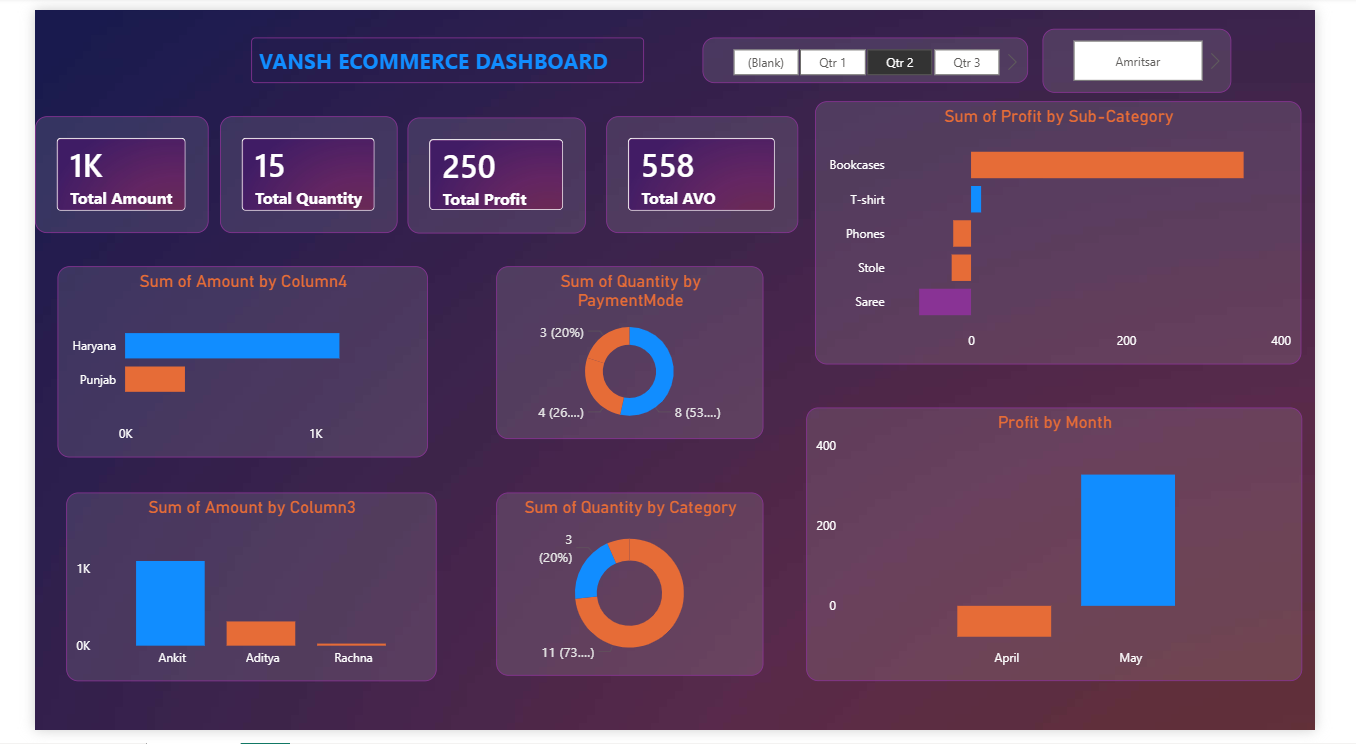

This screenshot's page, from the dashboard's own definition file:
{"tool":"powerbi","page":{"name":"Page 1","canvas":[1280,720],"ordinal":0},"visuals":[{"type":"columnChart","title":"Profit by Month","fields":{"Category":["Ordersr.Column2.Variation.Date Hierarchy.Month"],"Y":["Sum(Details.Profit)"]},"box":[770.9,396.9,495.8,273.9],"z":0},{"type":"textbox","box":[215.7,27.1,392.9,45.7],"z":1000},{"type":"barChart","fields":{"Category":["Details.Sub-Category"],"Y":["Sum(Details.Profit)"]},"box":[780.6,91.7,486.2,263],"z":2000},{"type":"donutChart","fields":{"Category":["Details.Category"],"Y":["Sum(Details.Quantity)"]},"box":[461.4,482.9,267.1,182.9],"z":3000},{"type":"donutChart","fields":{"Category":["Details.PaymentMode","Details.Category"],"Y":["Sum(Details.Quantity)"]},"box":[461.4,255.7,267.1,172.9],"z":4000},{"type":"cardVisual","fields":{"Data":["Sum(Details.Amount)"]},"box":[0,106.2,173.7,117],"z":5000},{"type":"cardVisual","fields":{"Data":["Sum(Details.Profit)"]},"box":[372.8,107.4,178.6,115.8],"z":6000},{"type":"cardVisual","fields":{"Data":["Sum(Details.Quantity)"]},"box":[184.6,106.2,177.3,117],"z":7000},{"type":"cardVisual","fields":{"Data":["Sum(Details.Averageorder)"]},"box":[571.9,106.2,191.8,117],"z":8000},{"type":"barChart","fields":{"Category":["Ordersr.Column4"],"Y":["Sum(Details.Amount)"]},"box":[22.9,255.7,370,191.4],"z":9000},{"type":"columnChart","fields":{"Category":["Ordersr.Column3"],"Y":["Sum(Details.Amount)"]},"box":[31.4,482.9,370,188.6],"z":10000},{"type":"slicer","fields":{"Values":["Ordersr.Column2.Variation.Date Hierarchy.Quarter"]},"box":[667.1,27.1,325.7,45.7],"z":11000},{"type":"slicer","fields":{"Values":["Ordersr.Column5"]},"box":[1007.1,18.6,188.6,64.3],"z":12000}]}

Visuals, with their boxes in screenshot pixels (x1, y1, x2, y2), scaled from the page's 1280x720 canvas onto the 1356x744 screenshot:
"Profit by Month" columnChart: {"x1": 817, "y1": 410, "x2": 1342, "y2": 693}
textbox: {"x1": 229, "y1": 28, "x2": 645, "y2": 75}
barChart - Details.Sub-Category x Sum(Details.Profit): {"x1": 827, "y1": 95, "x2": 1342, "y2": 367}
donutChart - Details.Category x Sum(Details.Quantity): {"x1": 489, "y1": 499, "x2": 772, "y2": 688}
donutChart - Details.PaymentMode x Details.Category: {"x1": 489, "y1": 264, "x2": 772, "y2": 443}
cardVisual - Sum(Details.Amount): {"x1": 0, "y1": 110, "x2": 184, "y2": 231}
cardVisual - Sum(Details.Profit): {"x1": 395, "y1": 111, "x2": 584, "y2": 231}
cardVisual - Sum(Details.Quantity): {"x1": 196, "y1": 110, "x2": 383, "y2": 231}
cardVisual - Sum(Details.Averageorder): {"x1": 606, "y1": 110, "x2": 809, "y2": 231}
barChart - Ordersr.Column4 x Sum(Details.Amount): {"x1": 24, "y1": 264, "x2": 416, "y2": 462}
columnChart - Ordersr.Column3 x Sum(Details.Amount): {"x1": 33, "y1": 499, "x2": 425, "y2": 694}
slicer - Ordersr.Column2.Variation.Date Hierarchy.Quarter: {"x1": 707, "y1": 28, "x2": 1052, "y2": 75}
slicer - Ordersr.Column5: {"x1": 1067, "y1": 19, "x2": 1267, "y2": 86}
